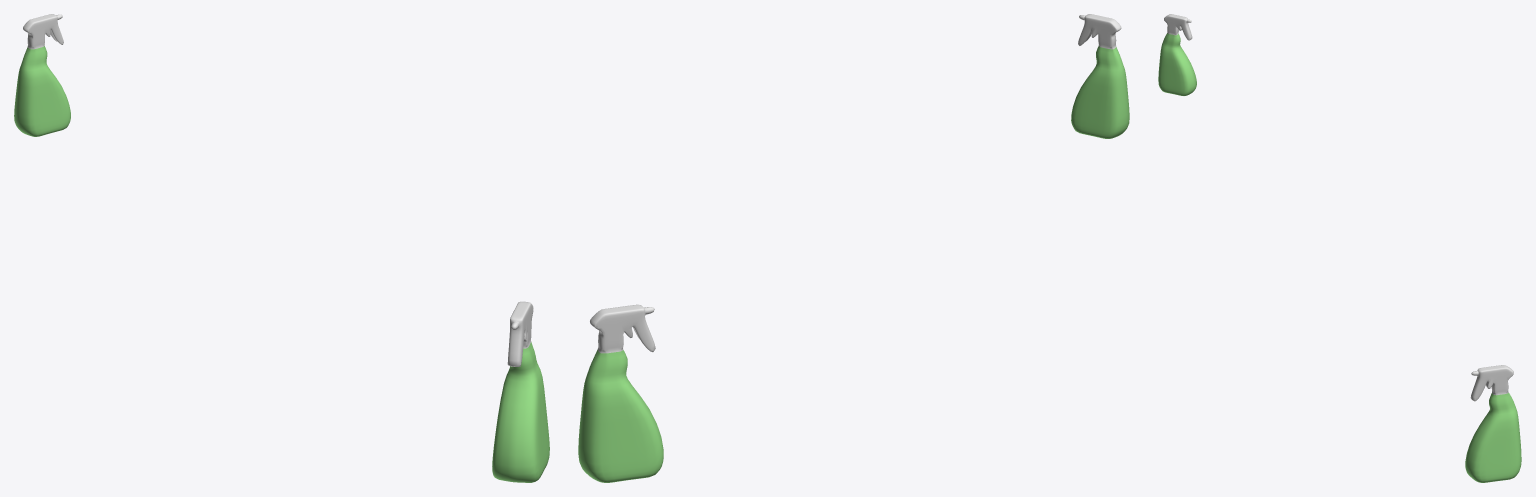
File: Spray_bottles.fbx
3 renders of one model, left to right at view 1: azimuth 30°, elevation 25°; view 2: azimuth 150°, elevation 25°; view 3: azimuth 330°, elevation 25°, orthographic. The views are drawn at different scales.
Parts seen in each view (by area): view 1: Spray_bottle.001, Spray_bottle.002; view 2: Spray_bottle.001, Spray_bottle.002; view 3: Spray_bottle.001, Spray_bottle.002.
Part boxes in pixels (x1,y1,x2,y2): Spray_bottle.001: (492, 301, 549, 482); Spray_bottle.002: (14, 14, 70, 136); Spray_bottle.001: (578, 304, 663, 482); Spray_bottle.002: (1071, 14, 1129, 138); Spray_bottle.001: (1465, 365, 1521, 482); Spray_bottle.002: (1158, 14, 1196, 95).
Bounding box in the file's own units: 274 × 278 × 35.36.
